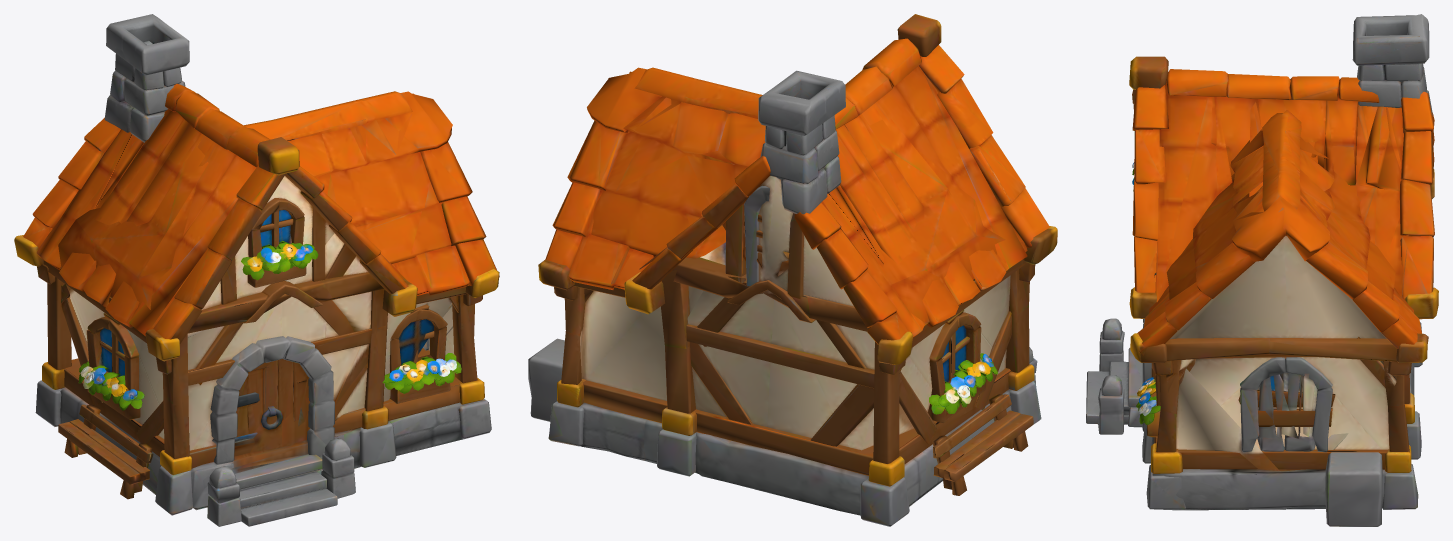
Rendered from maison.glb.
The picture shows the model from 3 angles, left to right: view 1: azimuth 30°, elevation 25°; view 2: azimuth 150°, elevation 25°; view 3: azimuth 270°, elevation 25°; orthographic projection. The views are drawn at different scales.
Parts seen in each view (by area): view 1: geometry_0; view 2: geometry_0; view 3: geometry_0.
Boxes of the visible parts, left/top/right/bottom form: geometry_0: left=14, top=14, right=499, bottom=526; geometry_0: left=528, top=14, right=1057, bottom=526; geometry_0: left=1086, top=14, right=1438, bottom=526.
Size of the model in its own units: 0.9541 by 0.914 by 0.7686.
1 material, 1 textured.
